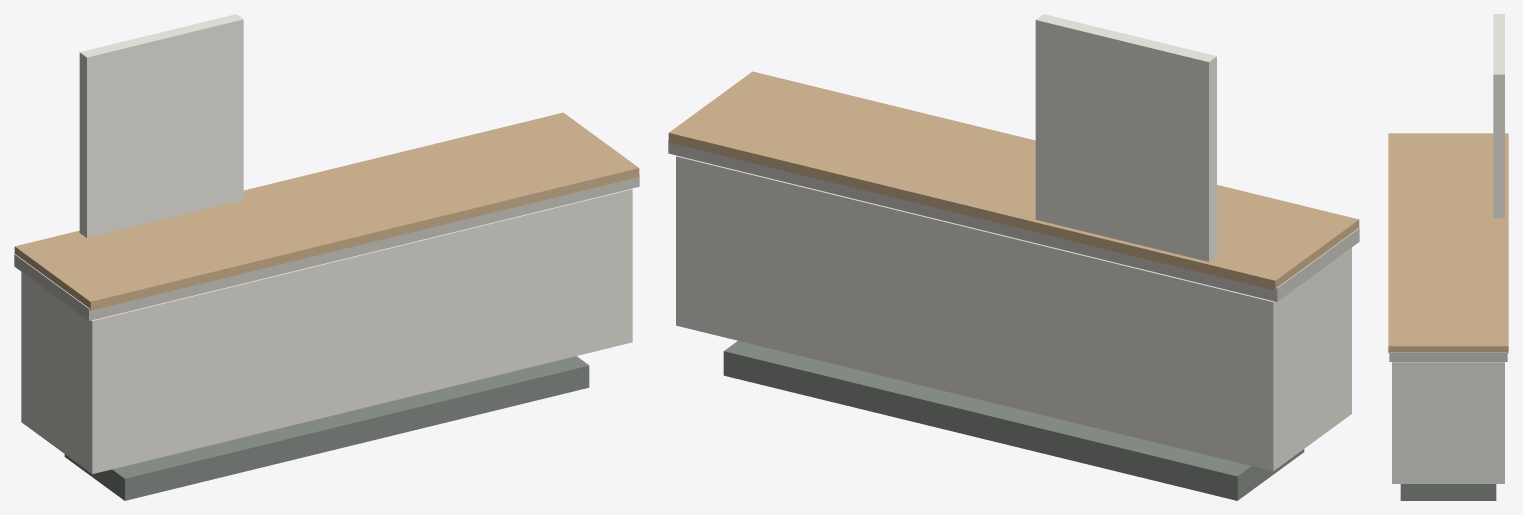
File: kitchen_counter.glb
The picture shows the model from 3 angles, left to right: view 1: azimuth 30°, elevation 25°; view 2: azimuth 150°, elevation 25°; view 3: azimuth 270°, elevation 25°; orthographic projection. The views are drawn at different scales.
Visible parts, largest first — view 1: kitchen_counter_ivory_0, kitchen_counter_oak_1, kitchen_counter_white_4, kitchen_counter_dark_2, kitchen_counter_stone_3; view 2: kitchen_counter_ivory_0, kitchen_counter_oak_1, kitchen_counter_white_4, kitchen_counter_dark_2, kitchen_counter_stone_3; view 3: kitchen_counter_oak_1, kitchen_counter_ivory_0, kitchen_counter_white_4, kitchen_counter_dark_2, kitchen_counter_stone_3.
Boxes of the visible parts, x1=… form: kitchen_counter_ivory_0: x1=21, y1=188, x2=632, y2=473; kitchen_counter_oak_1: x1=14, y1=112, x2=639, y2=310; kitchen_counter_white_4: x1=79, y1=14, x2=243, y2=238; kitchen_counter_dark_2: x1=64, y1=356, x2=589, y2=500; kitchen_counter_stone_3: x1=14, y1=174, x2=639, y2=320; kitchen_counter_ivory_0: x1=676, y1=155, x2=1351, y2=471; kitchen_counter_oak_1: x1=668, y1=71, x2=1359, y2=290; kitchen_counter_white_4: x1=1035, y1=14, x2=1216, y2=261; kitchen_counter_dark_2: x1=723, y1=341, x2=1304, y2=500; kitchen_counter_stone_3: x1=668, y1=140, x2=1359, y2=301; kitchen_counter_oak_1: x1=1388, y1=133, x2=1508, y2=353; kitchen_counter_ivory_0: x1=1392, y1=362, x2=1504, y2=483; kitchen_counter_white_4: x1=1493, y1=14, x2=1504, y2=218; kitchen_counter_dark_2: x1=1400, y1=484, x2=1496, y2=500; kitchen_counter_stone_3: x1=1389, y1=352, x2=1507, y2=361.
Size of the model in its own units: 2.6 by 1.78 by 0.62.
